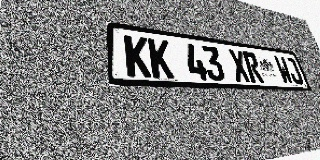3: (201, 45, 226, 81)
4: (183, 43, 209, 80)
J: (284, 57, 304, 85)
K: (124, 35, 152, 78), (148, 38, 174, 79)
R: (242, 51, 264, 83)
W: (273, 55, 294, 84)
X: (228, 49, 251, 82)
